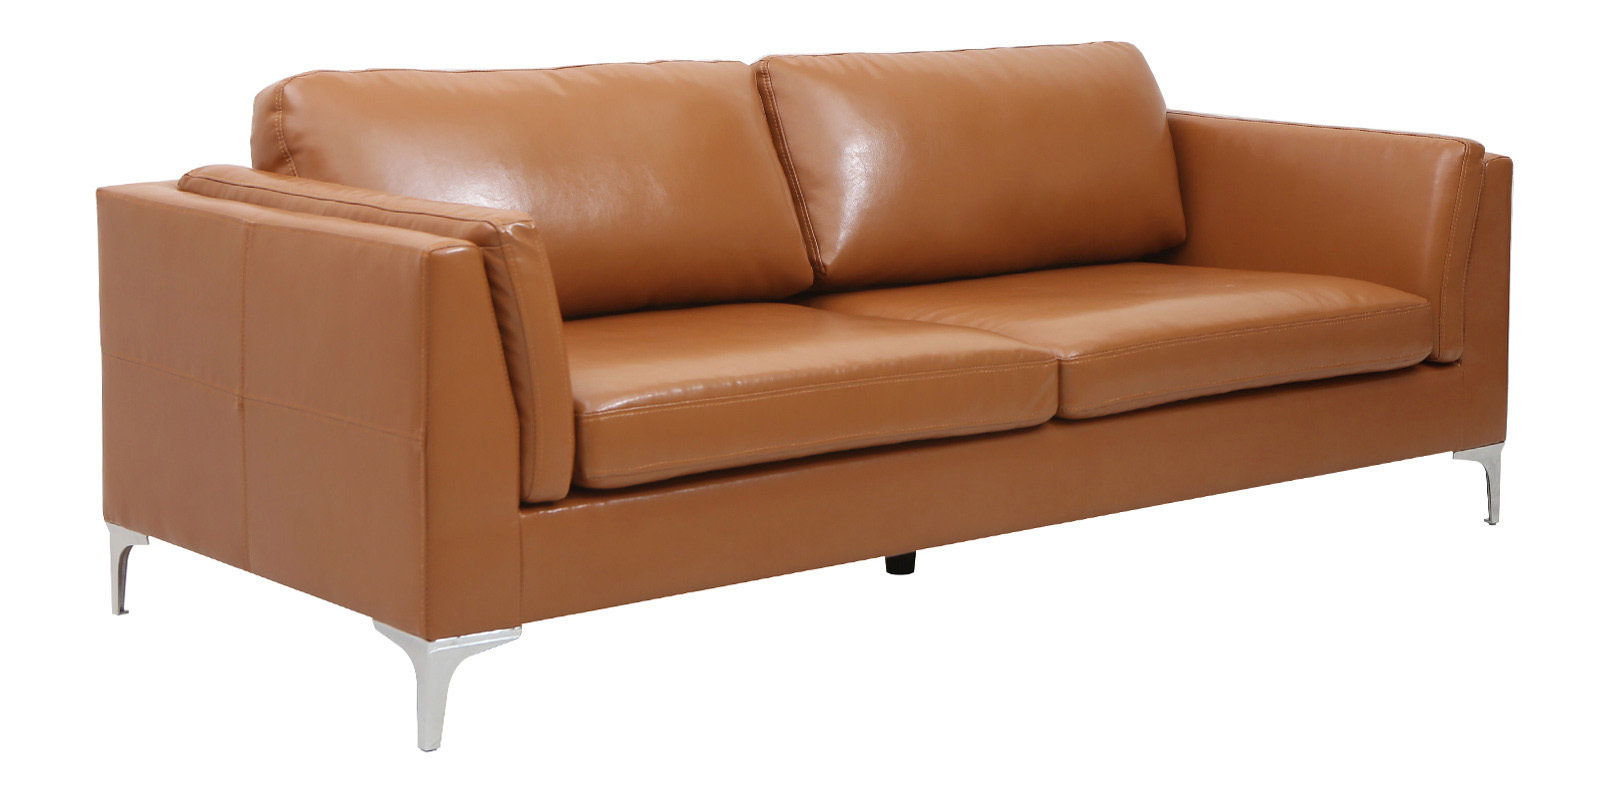Forma Three Seater Sofa in Camel Colour by Zofa: (60, 35, 1555, 774)
